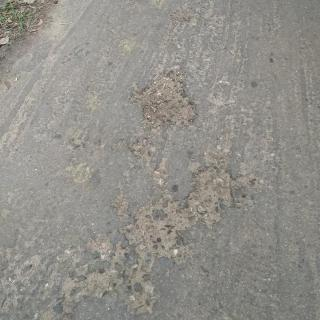pothole: (35, 163, 237, 320), (127, 69, 200, 130)
